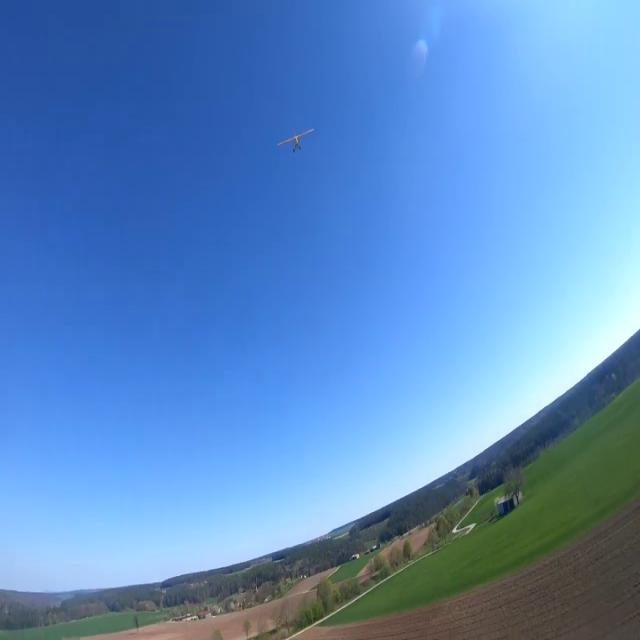iha: (278, 127, 314, 155)
